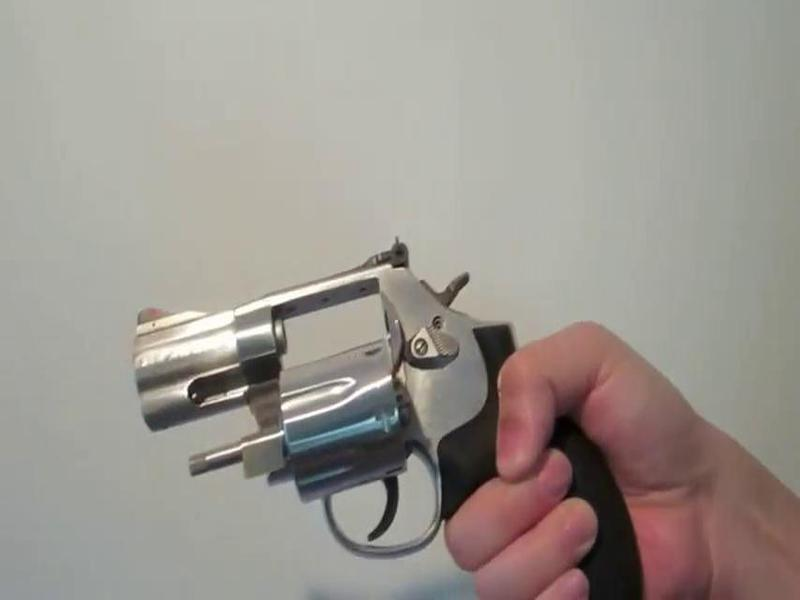Revolver: (124, 220, 643, 600)
